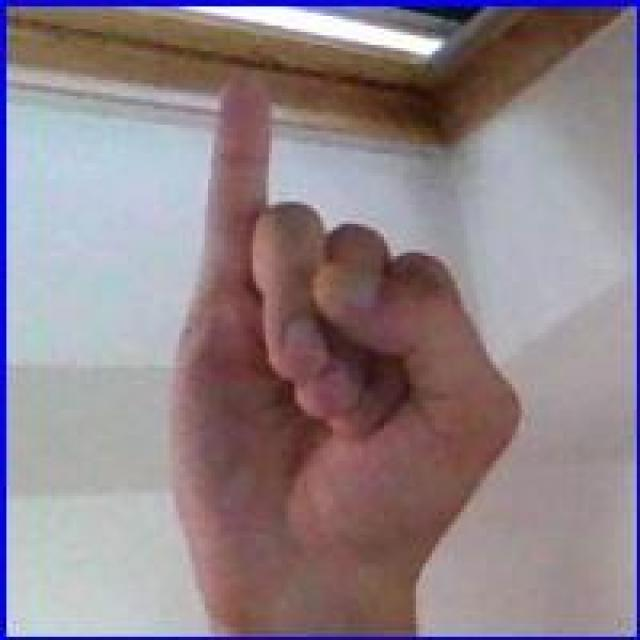I: (155, 59, 533, 626)
